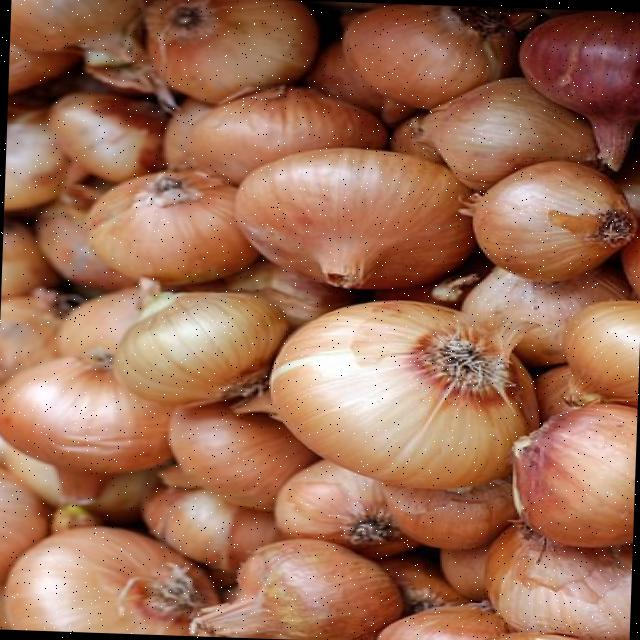Onion: (272, 299, 540, 488), (235, 145, 475, 287), (0, 355, 171, 503), (3, 525, 219, 636), (114, 276, 287, 404), (189, 539, 403, 640), (460, 158, 637, 279), (423, 75, 598, 187), (186, 83, 388, 180), (86, 169, 257, 282), (520, 11, 640, 167), (343, 2, 517, 106), (515, 403, 637, 546), (158, 401, 318, 509), (462, 264, 633, 365), (146, 0, 318, 100), (489, 524, 632, 640), (274, 458, 419, 558), (382, 479, 518, 549), (566, 300, 640, 404), (378, 603, 508, 640)
